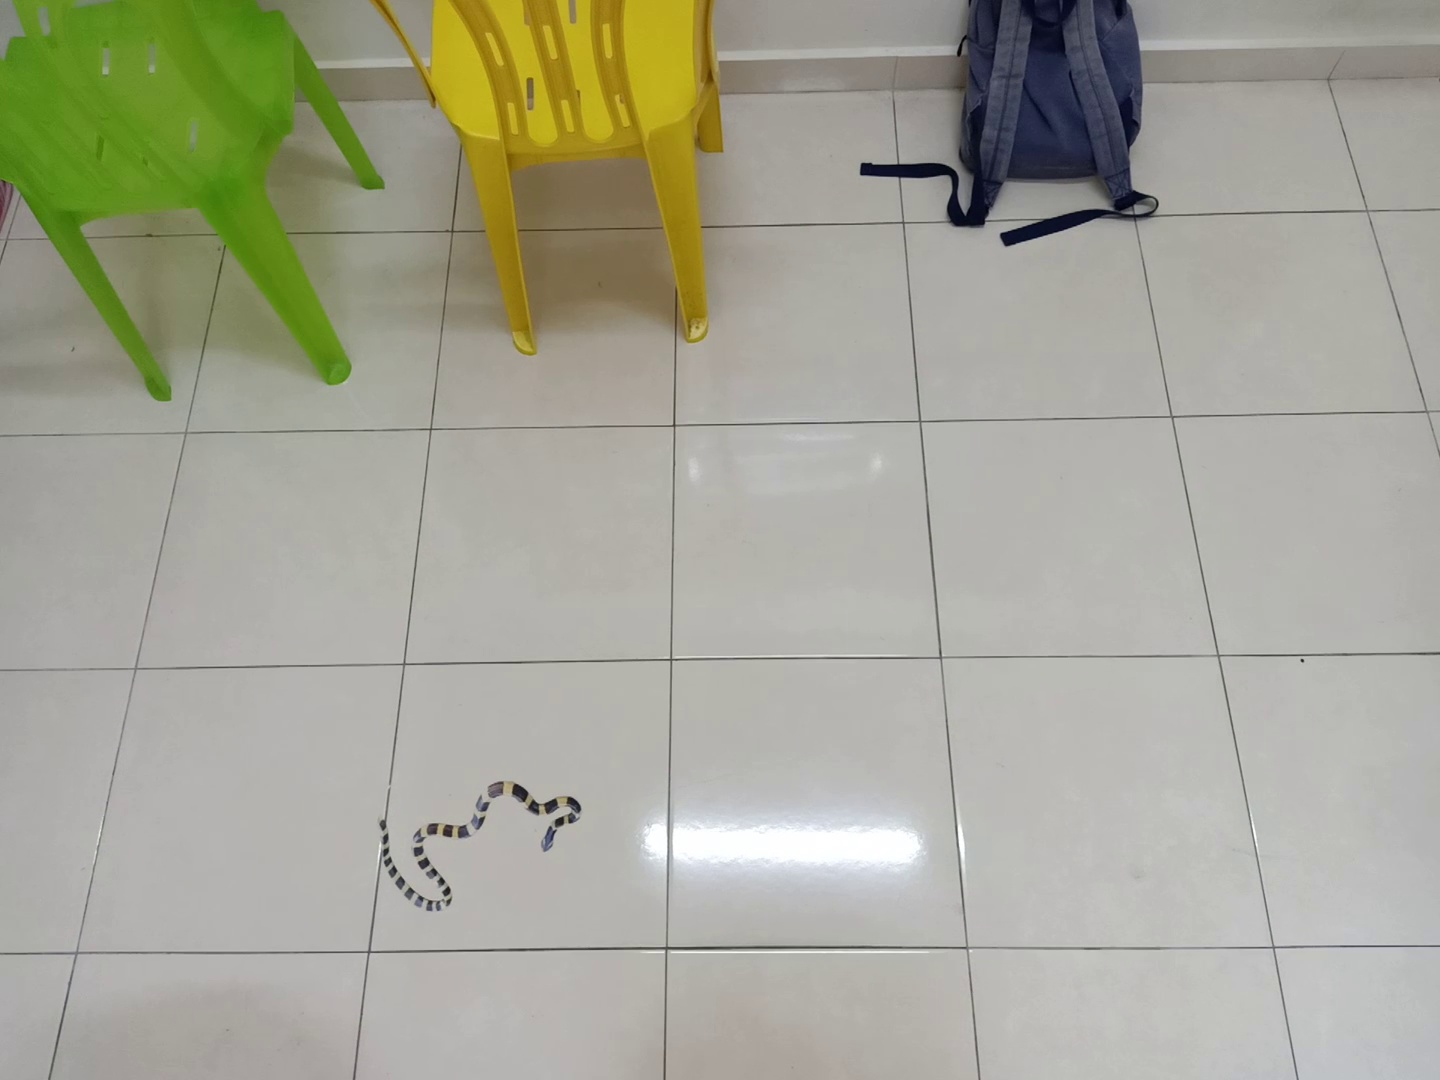snake: (369, 774, 588, 917)
